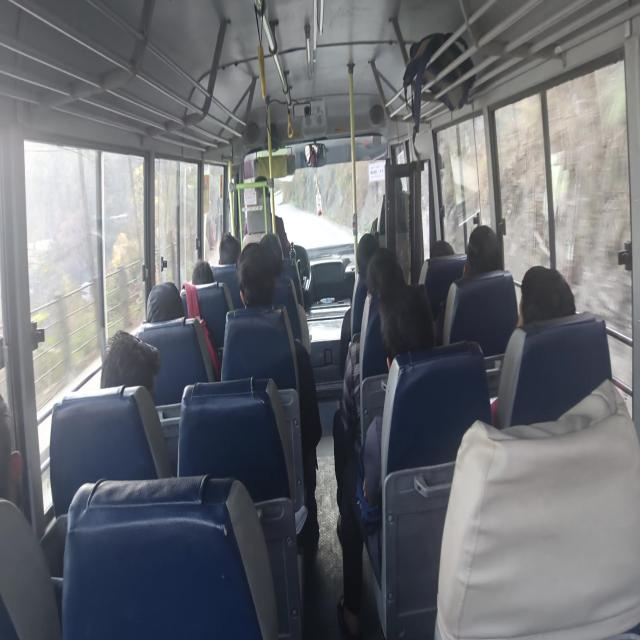person: (334, 248, 436, 636), (234, 240, 322, 544), (489, 264, 576, 424), (440, 224, 502, 344), (339, 232, 379, 376), (100, 328, 160, 399), (516, 264, 576, 328), (236, 242, 276, 308), (461, 224, 502, 278), (146, 281, 185, 323), (260, 232, 284, 274), (218, 232, 241, 266), (191, 259, 215, 285)
